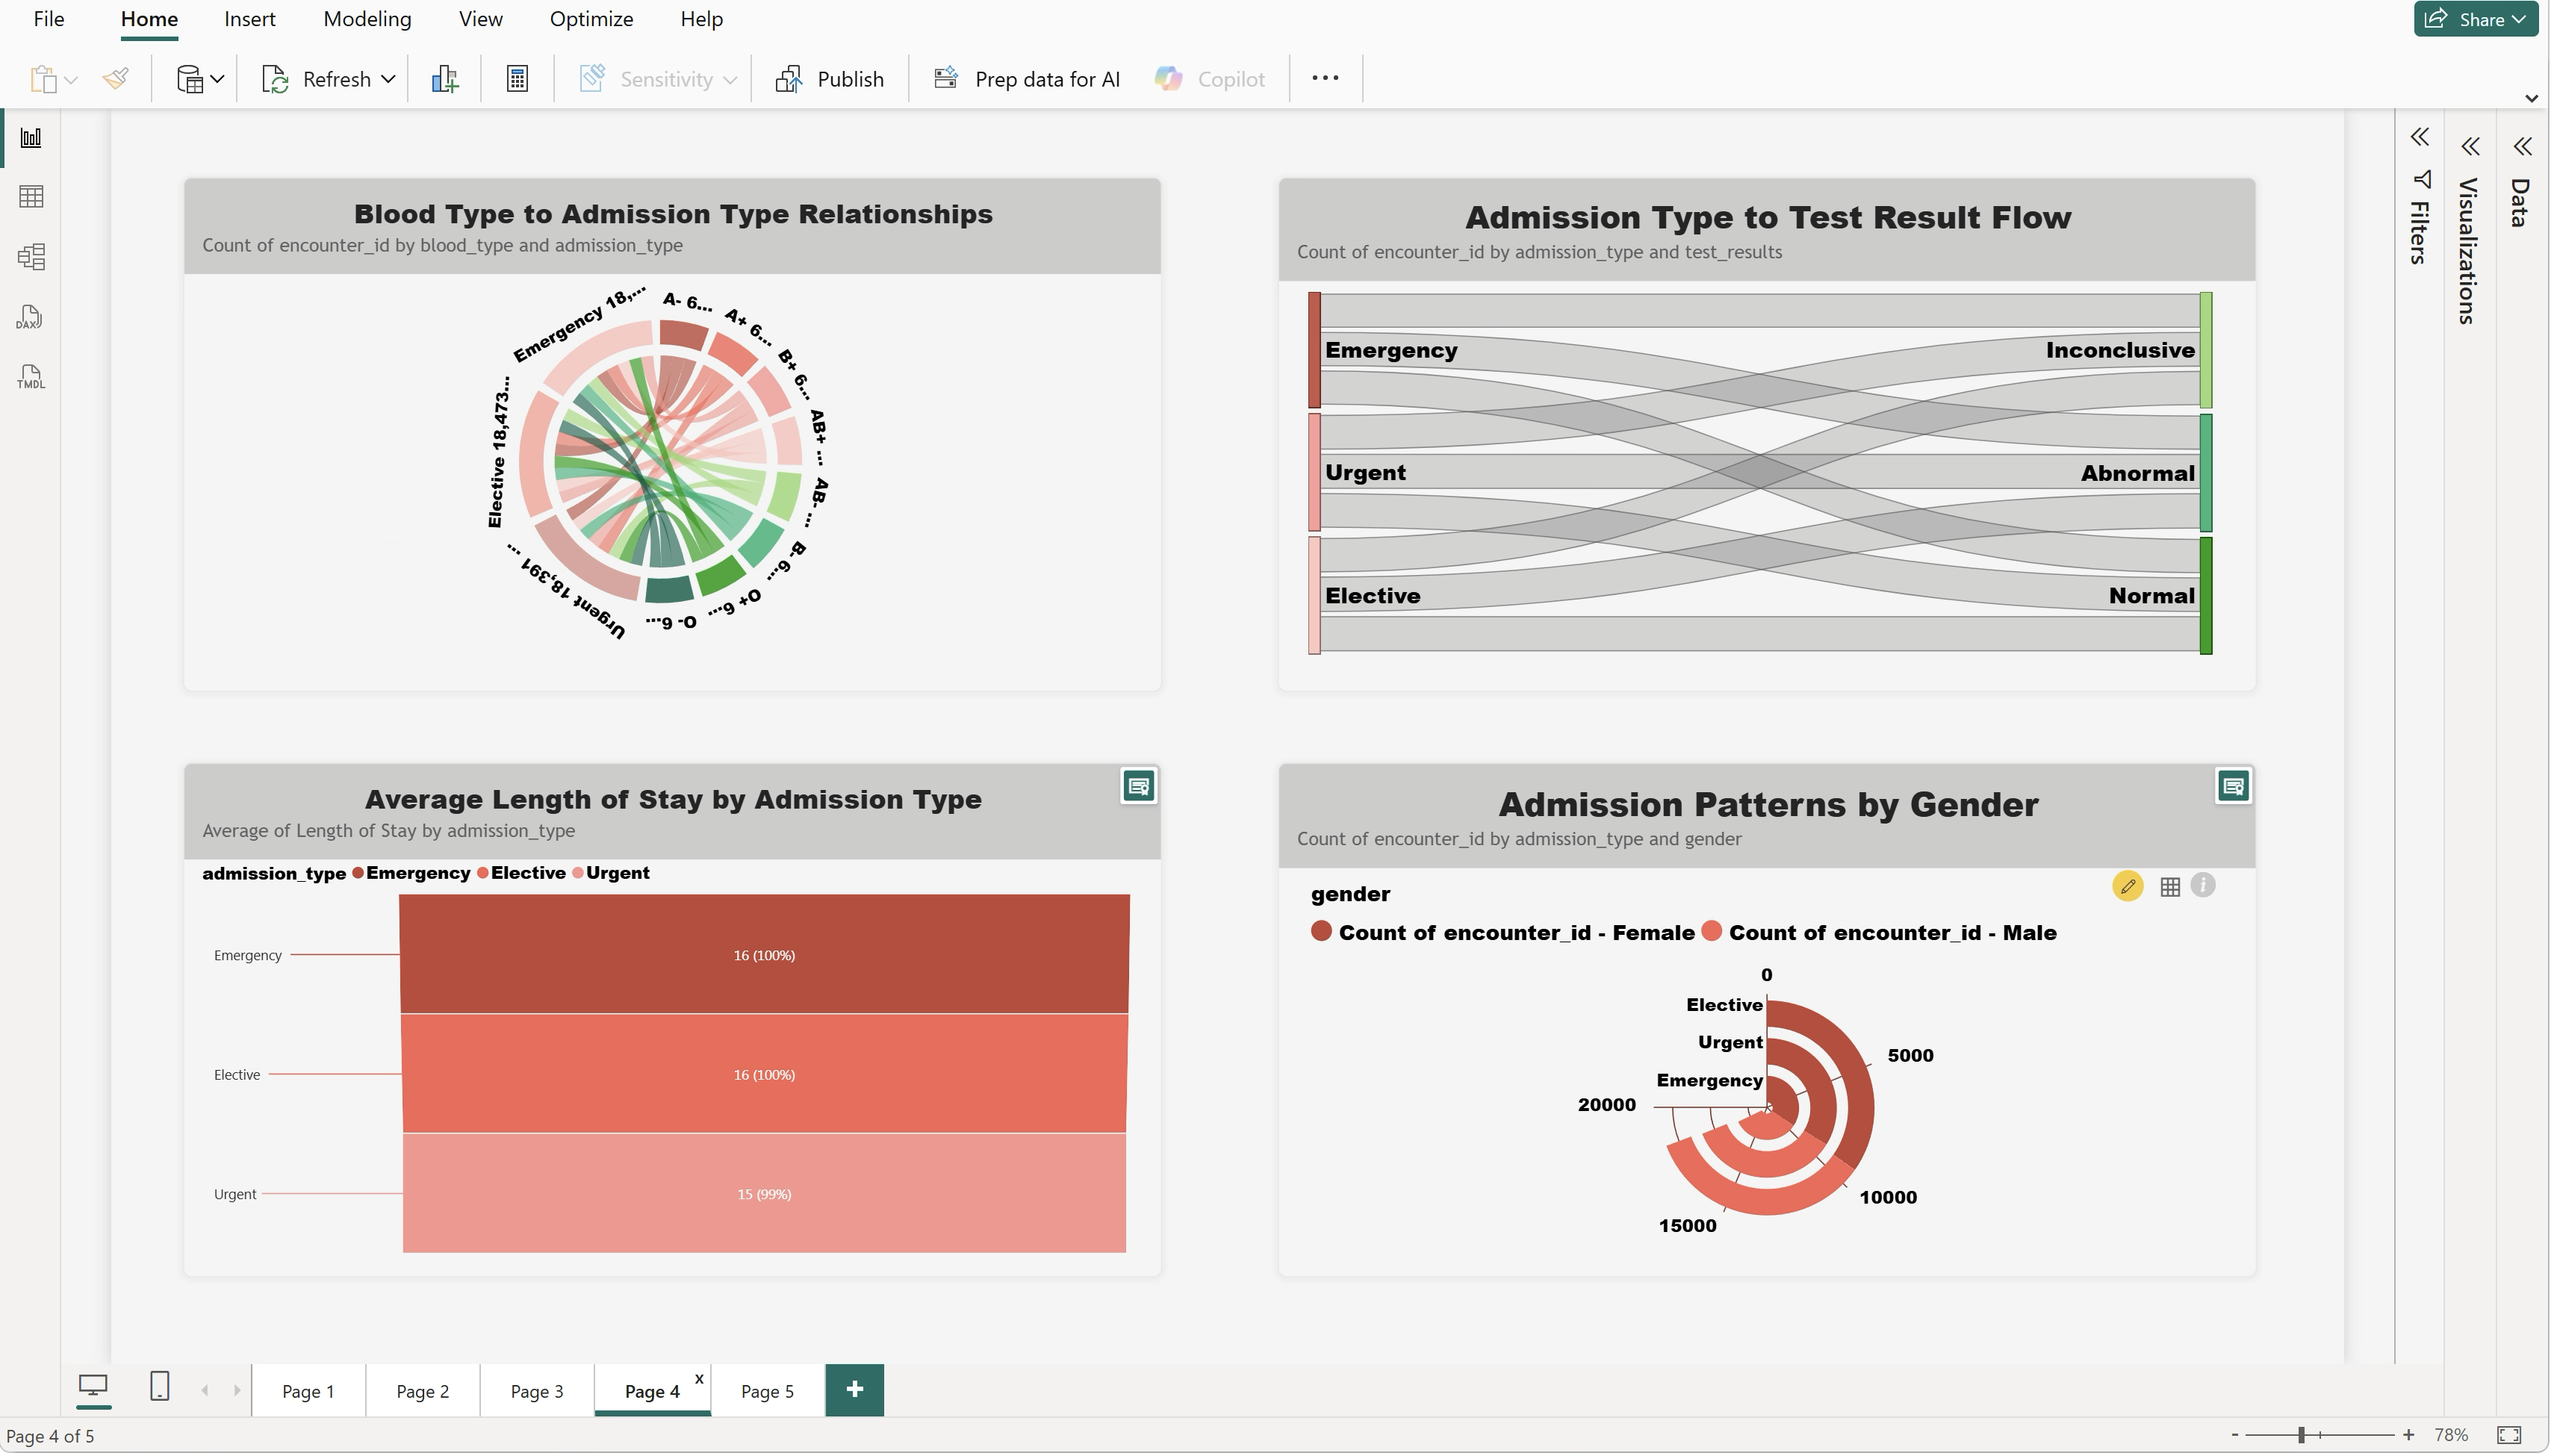

The page's visual inventory and layout, read from the dashboard file:
{"tool":"powerbi","page":{"name":"Page 4","canvas":[1920,1080],"ordinal":3},"visuals":[{"type":"sankey02300D1BE6F5427989F3DE31CCA9E0F32020","title":"Admission Type to Test Result Flow","fields":{"Source":["encounters_rows.admission_type"],"Destination":["encounters_rows.test_results"],"Weight":["CountNonNull(encounters_rows.encounter_id)"]},"box":[1003.4,59,842,443],"z":1},{"type":"radarChartE89D21F3E4E64221B79113B5015EA81B","title":"Admission Patterns by Gender","fields":{"category":["encounters_rows.admission_type"],"measure":["CountNonNull(encounters_rows.encounter_id)"],"legend":["patients_rows.gender"]},"box":[1003,562,842,443],"z":3},{"type":"chordDiagram_chart_visiochart_855a6a012eec472d899f79bf867dr0","title":"Blood Type to Admission Type Relationships","fields":{"Source":["patients_rows.blood_type"],"Destination":["encounters_rows.admission_type"],"Value":["CountNonNull(encounters_rows.encounter_id)"]},"box":[61,59,842,443],"z":4},{"type":"FunnelChartA96234ADB8D143D1837FEC426BB34781","title":"Average Length of Stay by Admission Type","fields":{"categories":["encounters_rows.admission_type"],"measure":["Avg(encounters_rows.Length of Stay)"]},"box":[61,562,842,443],"z":5}]}

Visuals, with their boxes on the page's 1920x1080 design canvas (x1, y1, x2, y2). These are canvas units, not pixel positions in the 2554x1456 screenshot, which may show the page scaled, cropped or inside an application window:
"Admission Type to Test Result Flow" sankey02300D1BE6F5427989F3DE31CCA9E0F32020: pyautogui.locateOnScreen(1003, 59, 1845, 502)
"Admission Patterns by Gender" radarChartE89D21F3E4E64221B79113B5015EA81B: pyautogui.locateOnScreen(1003, 562, 1845, 1005)
"Blood Type to Admission Type Relationships" chordDiagram_chart_visiochart_855a6a012eec472d899f79bf867dr0: pyautogui.locateOnScreen(61, 59, 903, 502)
"Average Length of Stay by Admission Type" FunnelChartA96234ADB8D143D1837FEC426BB34781: pyautogui.locateOnScreen(61, 562, 903, 1005)
